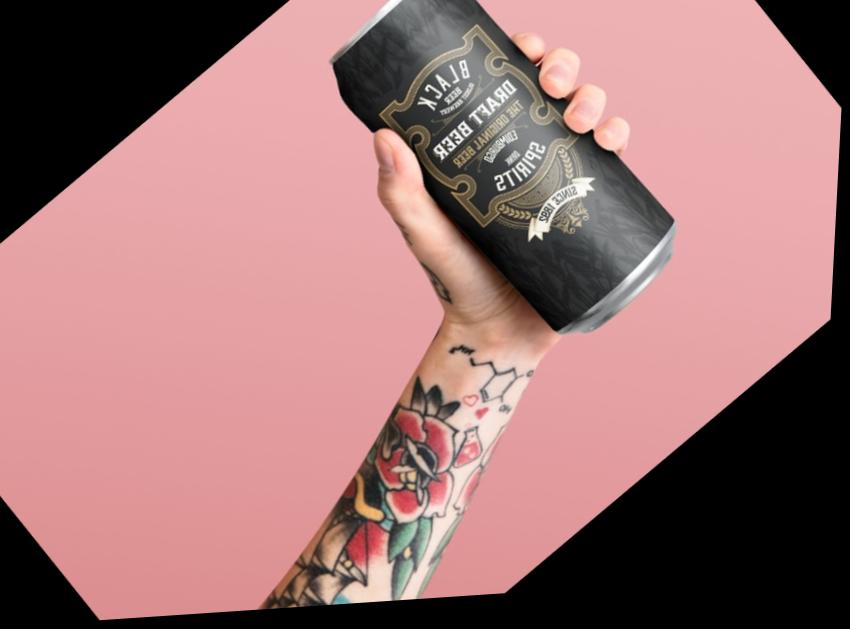metal: (332, 0, 674, 332), (267, 257, 557, 608)
